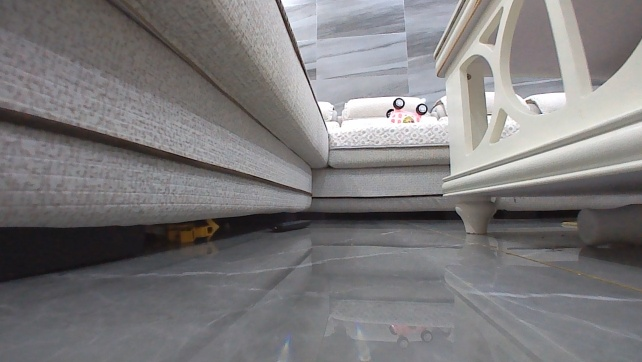sofa: (0, 0, 583, 227)
tea_table1: (429, 0, 641, 238)
